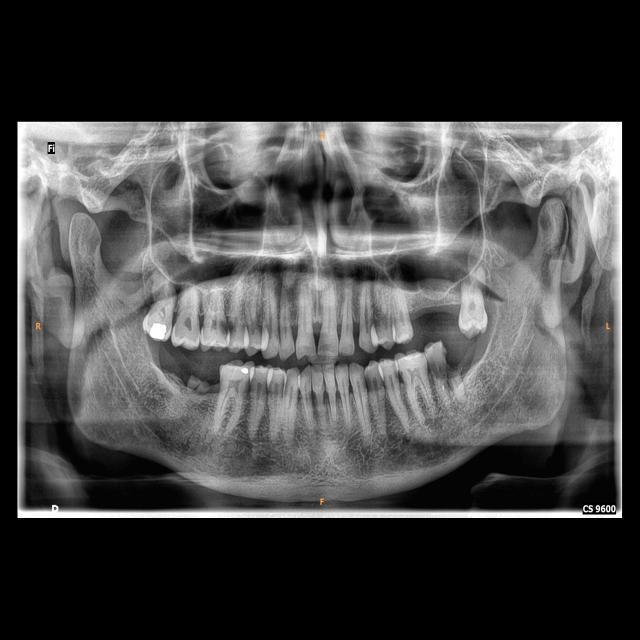dentin-curugu: (433, 342, 460, 378), (374, 306, 388, 332), (365, 374, 379, 396), (221, 316, 232, 340), (232, 315, 240, 337)
dolgu: (144, 318, 172, 341), (240, 364, 250, 378)
